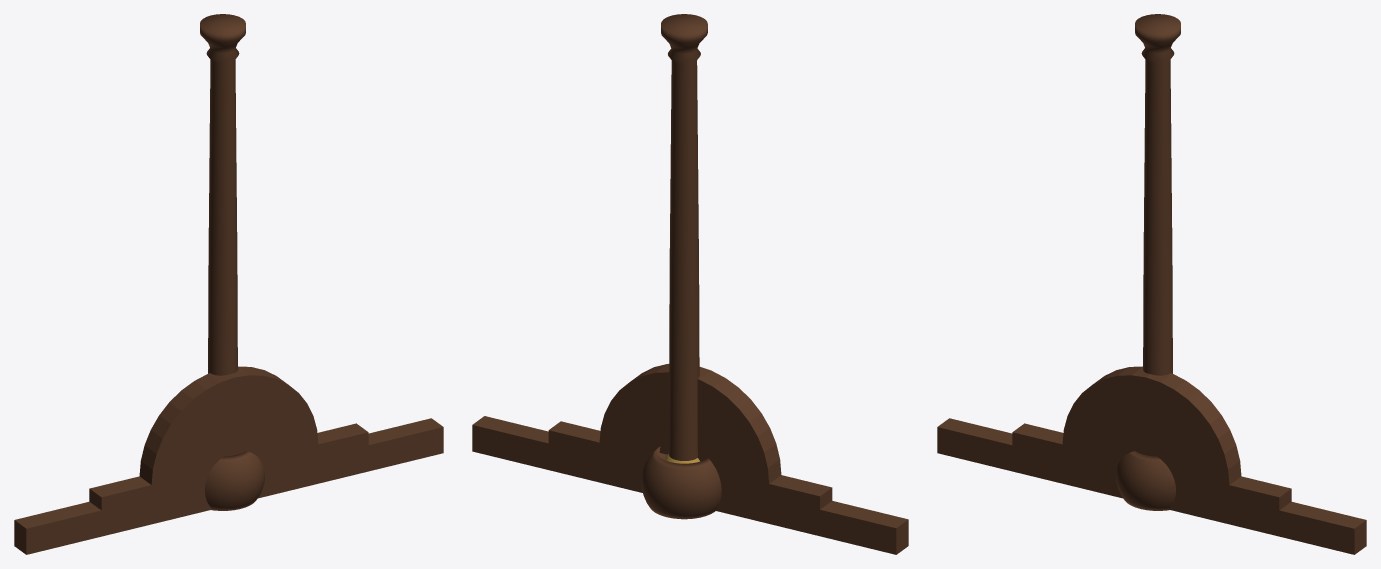
The model's file is clock.glb.
The picture shows the model from 3 angles, left to right: view 1: azimuth 30°, elevation 25°; view 2: azimuth 150°, elevation 25°; view 3: azimuth 330°, elevation 25°; orthographic projection.
Visible parts, largest first — view 1: Crest, HoodColumn, BunFoot; view 2: Crest, HoodColumn, BunFoot; view 3: Crest, HoodColumn, BunFoot.
Boxes of the visible parts, box(x1,y1,x2,y2) form: Crest: box(14, 366, 443, 554); HoodColumn: box(200, 14, 245, 375); BunFoot: box(205, 451, 264, 510); Crest: box(472, 364, 908, 554); HoodColumn: box(661, 14, 707, 460); BunFoot: box(641, 446, 721, 519); Crest: box(937, 366, 1366, 554); HoodColumn: box(1135, 14, 1180, 375); BunFoot: box(1116, 451, 1175, 510).
Size of the model in its own units: 0.5 by 0.5412 by 0.088.
